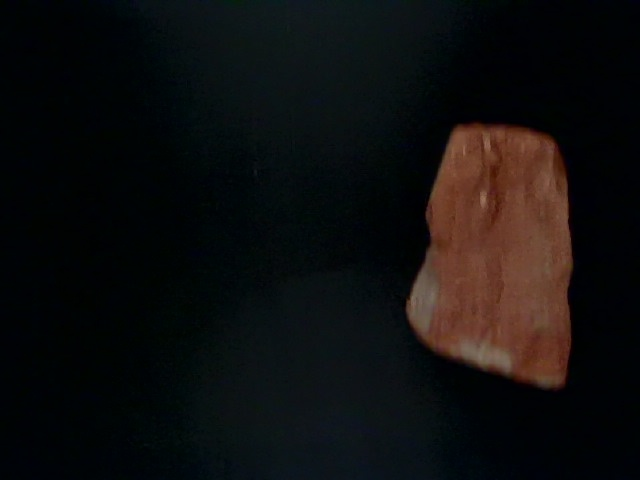KHSLJ: (56, 62, 399, 395)
